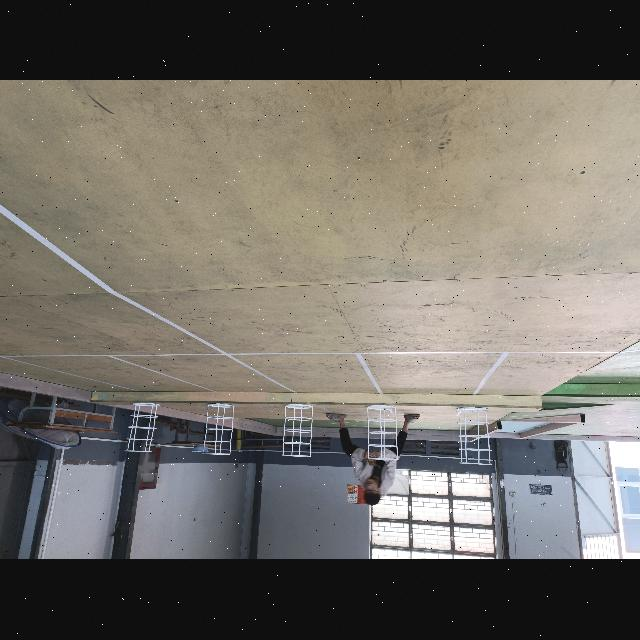S: (456, 406, 492, 466), (365, 404, 400, 462), (280, 403, 314, 459), (203, 403, 235, 455)
